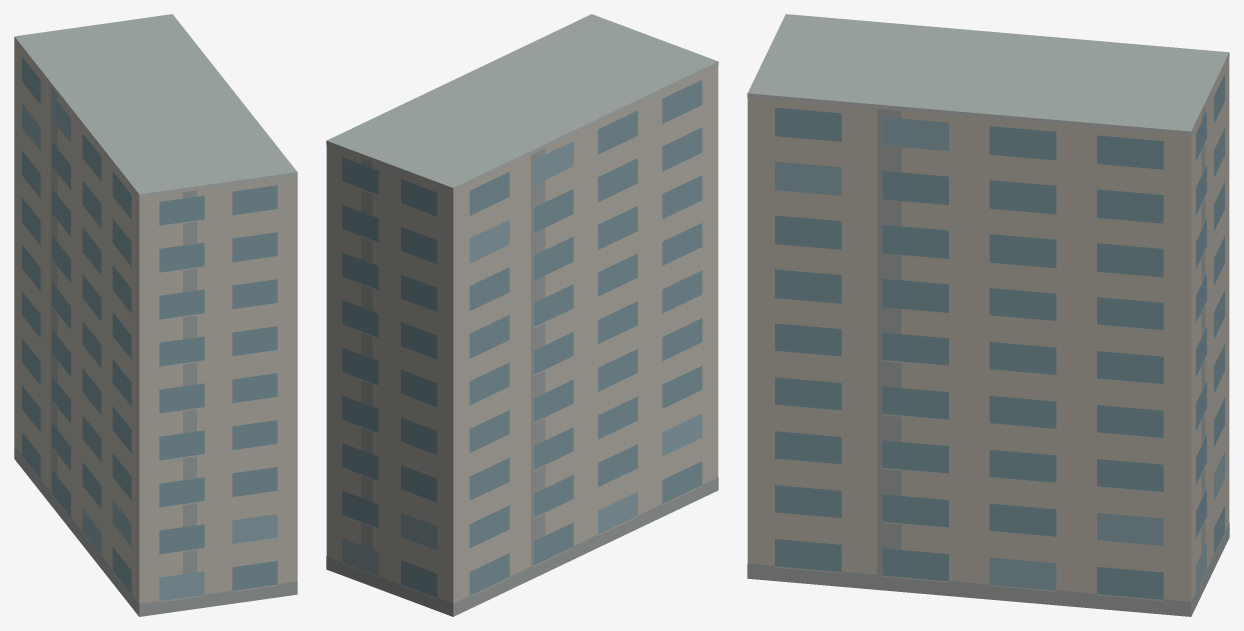
The model's file is residential-7cea2735-fe6c-4319-bb73-f11f539feddc.glb.
3 renders of one model, left to right at view 1: azimuth 30°, elevation 25°; view 2: azimuth 150°, elevation 25°; view 3: azimuth 270°, elevation 25°, orthographic. The views are drawn at different scales.
Visible parts, largest first — view 1: residential-7cea2735-fe6c-4319-bb73-f11f539feddc.tmp; view 2: residential-7cea2735-fe6c-4319-bb73-f11f539feddc.tmp; view 3: residential-7cea2735-fe6c-4319-bb73-f11f539feddc.tmp.
Part boxes in pixels (x1,y1,x2,y2): residential-7cea2735-fe6c-4319-bb73-f11f539feddc.tmp: [14, 14, 297, 616]; residential-7cea2735-fe6c-4319-bb73-f11f539feddc.tmp: [326, 14, 718, 616]; residential-7cea2735-fe6c-4319-bb73-f11f539feddc.tmp: [747, 14, 1229, 616].
Size of the model in its own units: 13.52 by 26 by 23.41.
